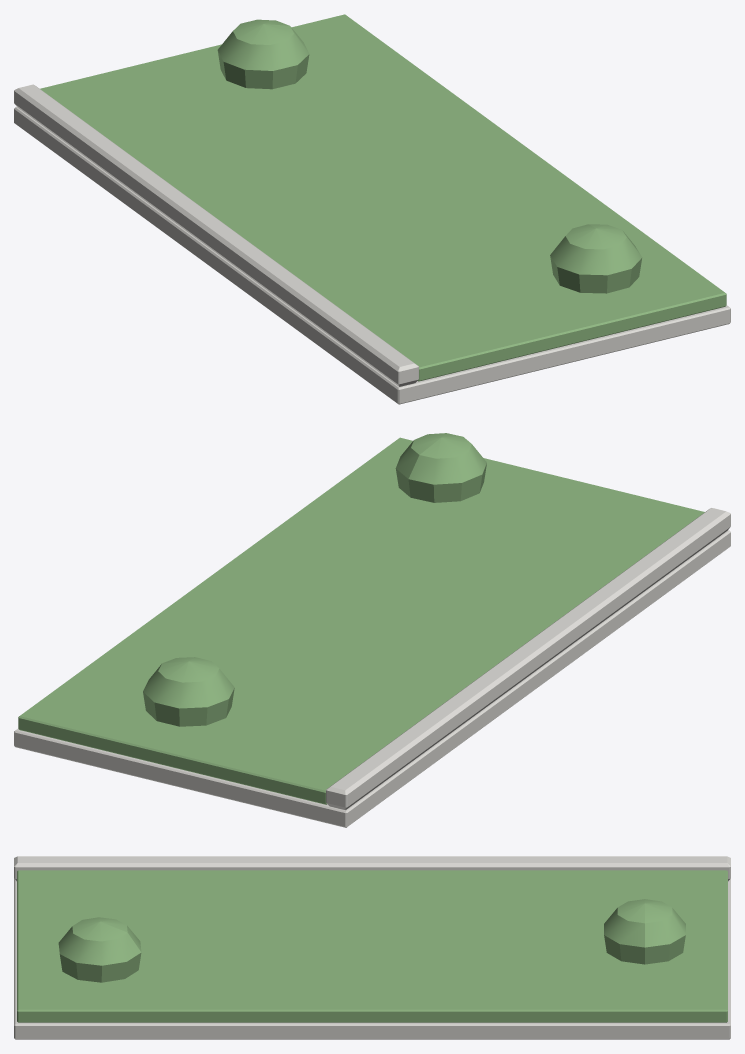
The model's file is motorway-services-and-truck-park-grass-verge-tile-189b6050__35956.glb.
3 renders of one model, top to bottom at view 1: azimuth 30°, elevation 25°; view 2: azimuth 150°, elevation 25°; view 3: azimuth 270°, elevation 25°, orthographic. The views are drawn at different scales.
Visible parts, largest first — view 1: grass-verge-tile; view 2: grass-verge-tile; view 3: grass-verge-tile.
Part boxes in pixels (x1,y1,x2,y2): grass-verge-tile: [14, 14, 730, 404]; grass-verge-tile: [14, 433, 730, 827]; grass-verge-tile: [14, 856, 730, 1039].
Bounding box in the file's own units: 2.5 × 0.6001 × 5.
